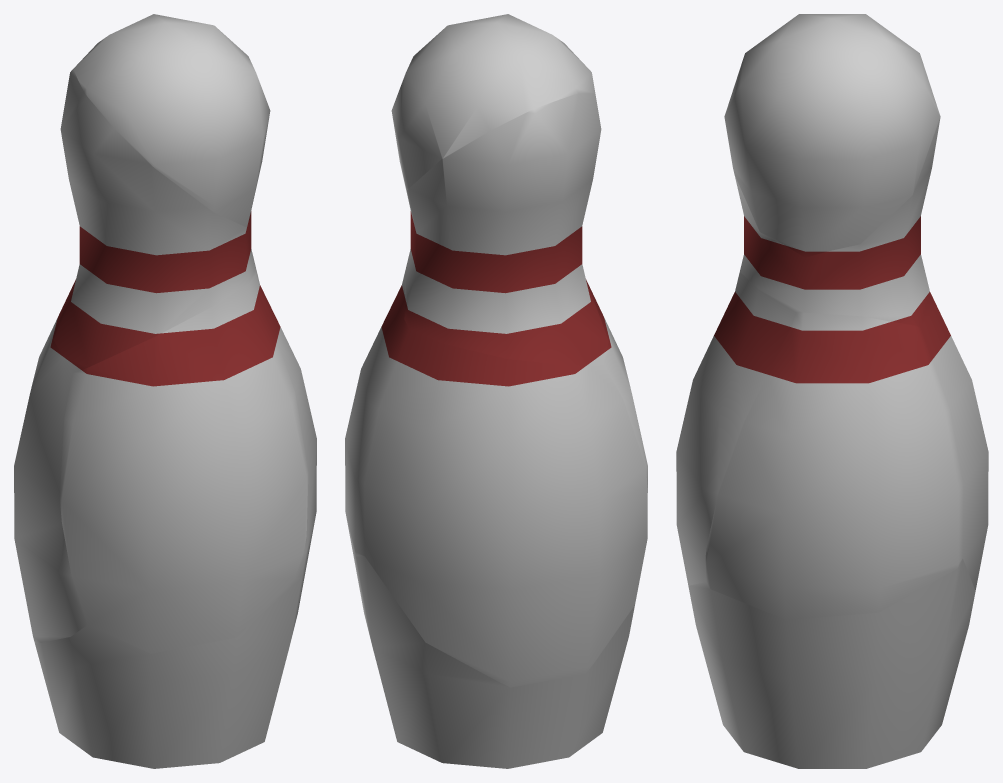
File: Entity_BowlingPin-bkn.FBX
3 views of the same model, side by side, from view 1: azimuth 30°, elevation 25°; view 2: azimuth 150°, elevation 25°; view 3: azimuth 270°, elevation 25° (orthographic).
Visible parts, largest first — view 1: BowlingPin_Part_2, BowlingPin_Part_1, BowlingPin_Part_3, BowlingPin_Part_6, BowlingPin_Part_5, BowlingPin_Part_4; view 2: BowlingPin_Part_5, BowlingPin_Part_1, BowlingPin_Part_3, BowlingPin_Part_6, BowlingPin_Part_4, BowlingPin_Part_2; view 3: BowlingPin_Part_4, BowlingPin_Part_6, BowlingPin_Part_3, BowlingPin_Part_2, BowlingPin_Part_1, BowlingPin_Part_5.
Boxes of the visible parts, bbox=[...] form: BowlingPin_Part_2: bbox=[59, 275, 308, 653]; BowlingPin_Part_1: bbox=[54, 68, 256, 372]; BowlingPin_Part_3: bbox=[35, 548, 309, 768]; BowlingPin_Part_6: bbox=[73, 14, 270, 227]; BowlingPin_Part_5: bbox=[14, 297, 87, 643]; BowlingPin_Part_4: bbox=[256, 270, 316, 578]; BowlingPin_Part_5: bbox=[365, 329, 647, 687]; BowlingPin_Part_1: bbox=[404, 93, 608, 365]; BowlingPin_Part_3: bbox=[350, 540, 634, 768]; BowlingPin_Part_6: bbox=[391, 14, 595, 200]; BowlingPin_Part_4: bbox=[345, 273, 409, 556]; BowlingPin_Part_2: bbox=[586, 280, 647, 487]; BowlingPin_Part_4: bbox=[705, 312, 963, 619]; BowlingPin_Part_6: bbox=[724, 14, 940, 257]; BowlingPin_Part_3: bbox=[688, 559, 975, 768]; BowlingPin_Part_2: bbox=[676, 272, 796, 585]; BowlingPin_Part_1: bbox=[734, 116, 940, 327]; BowlingPin_Part_5: bbox=[921, 305, 988, 590].
Size of the model in its own units: 22.11 by 58.02 by 23.25.
